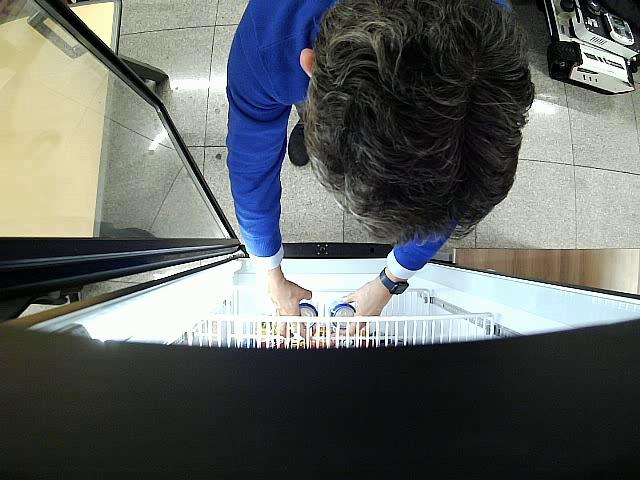00_hand: (262, 272, 312, 340), (334, 280, 392, 334)
13_pocariSweat: (330, 303, 355, 331), (300, 303, 318, 327)
